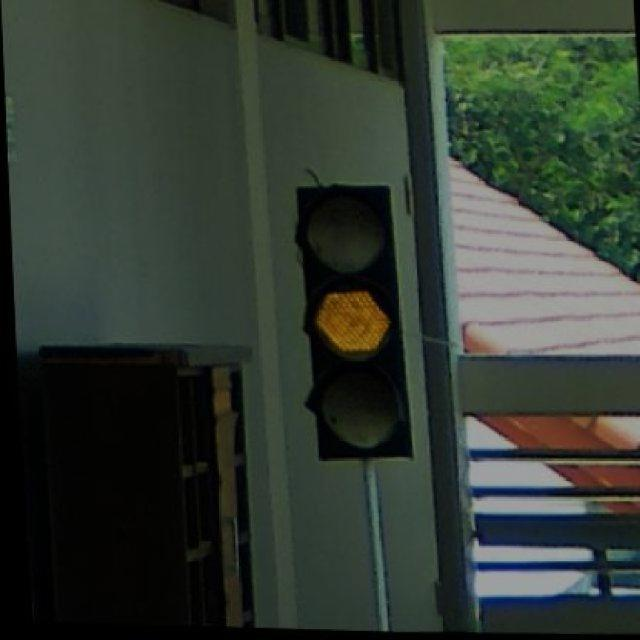Yellow: (294, 186, 418, 470)
